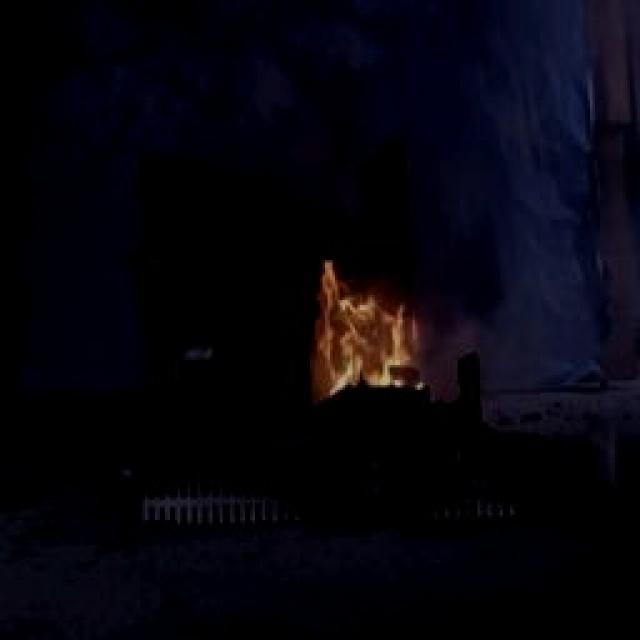fire: (282, 239, 440, 426)
